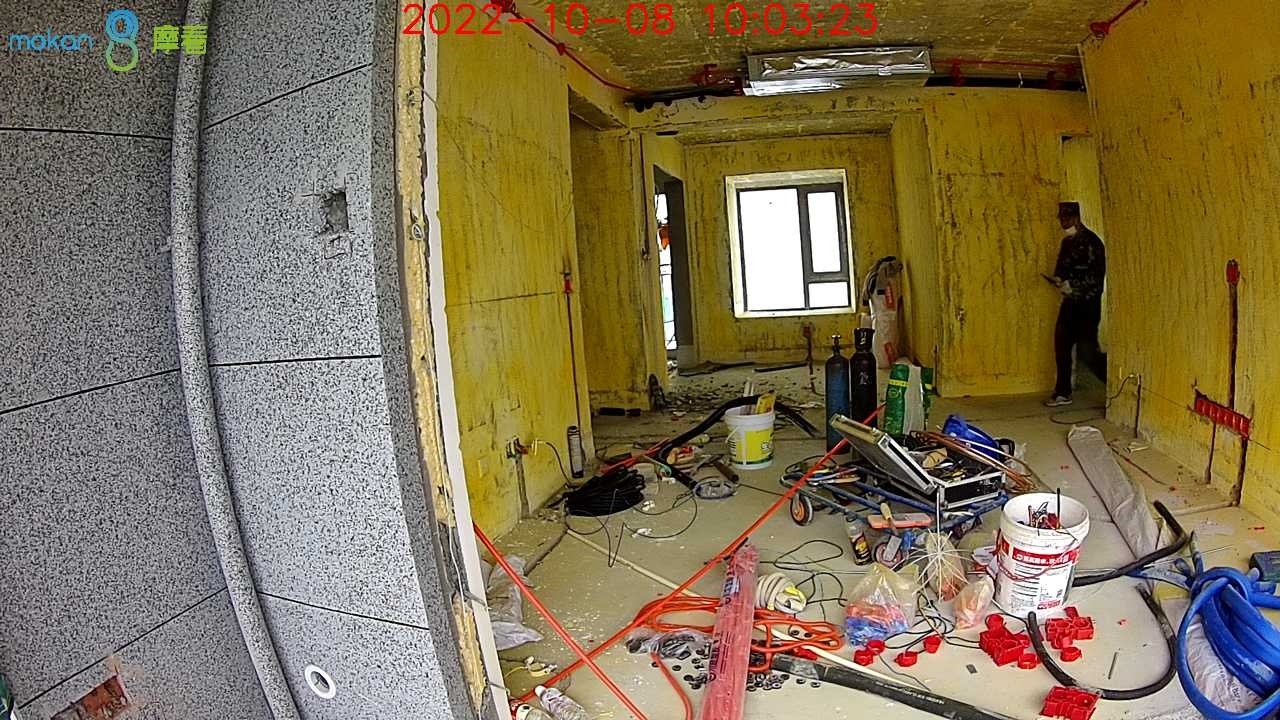people: (1045, 201, 1116, 406)
window: (726, 177, 854, 311)
